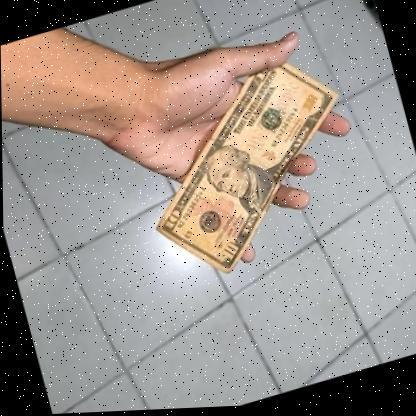ten-front: (118, 39, 376, 296)
